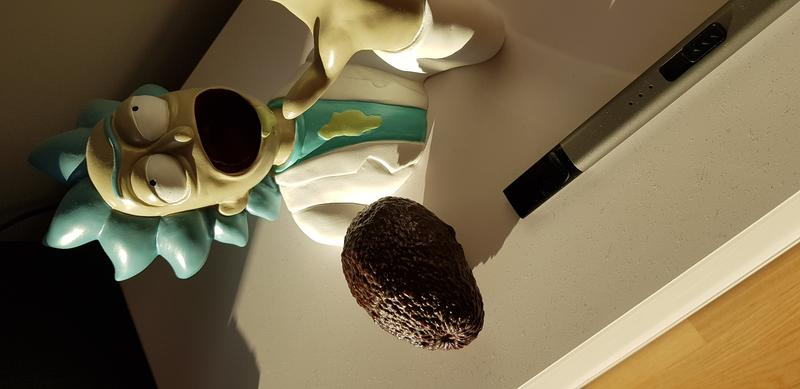Avocado: (326, 194, 506, 359)
